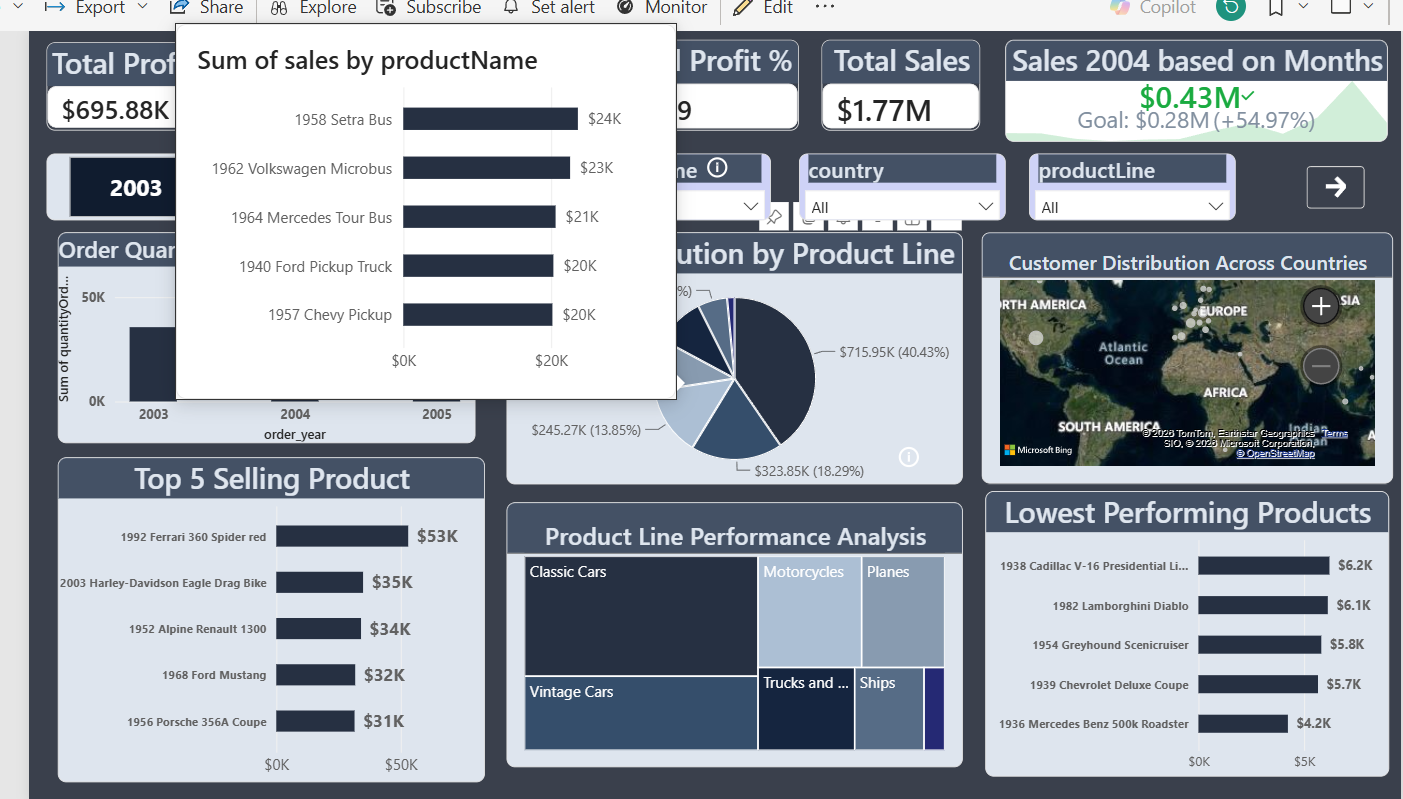

This screenshot's page, from the dashboard's own definition file:
{"tool":"powerbi","page":{"name":"Orders and Sales","canvas":[1280,720],"ordinal":0},"visuals":[{"type":"pieChart","title":"Sales Distribution by Product Line","fields":{"Category":["product database.productLine"],"Y":["Sum(order details.sales)"]},"box":[445.2,188.2,425.9,235.3],"z":0},{"type":"cardVisual","title":"Total Profit","fields":{"Data":["order details.total_profit"]},"box":[16.9,10.9,141.2,82],"z":1000},{"type":"cardVisual","title":"Top Selling Product","fields":{"Data":["order details.Most Ordered Product"]},"box":[167.7,8.4,360.7,84.5],"z":2000},{"type":"barChart","title":"Top 5 Selling Product","fields":{"Category":["products.productName"],"Y":["Sum(order details.sales)"]},"box":[26.5,398.1,398.1,302.8],"z":3000},{"type":"kpi","title":"Sales 2004 based on Months","fields":{"Goal":["order details.sales_2003"],"Indicator":["order details.sales_2004"],"TrendLine":["order.orderDate.Variation.Date Hierarchy.Month"]},"box":[910.9,8.4,357.1,95.3],"z":4000},{"type":"map","title":"Customer Distribution Across Countries","fields":{"Category":["customer database.country"],"Size":["CountNonNull(customer database.customerNumber)"]},"box":[887.9,188.2,383.6,234],"z":5000},{"type":"slicer","fields":{"Values":["order.shippedDate.Variation.Date Hierarchy.Year"]},"box":[16.9,114.6,417.4,62.7],"z":6000},{"type":"treemap","title":"Product Line Performance Analysis","fields":{"Group":["productlines.productLine"],"Values":["Sum(order details.quantityOrdered)"]},"box":[445.2,439.1,425.9,247.3],"z":7000},{"type":"columnChart","title":"Order Quantity Trend (2003–2005)","fields":{"Category":["order.order_year"],"Y":["Sum(order details.quantityOrdered)"]},"box":[26.5,188.2,389.7,196.6],"z":8000},{"type":"cardVisual","title":"Total Profit %","fields":{"Data":["classic_models_dataset (2).Profit_measure%"]},"box":[541.7,8.4,176.1,84.5],"z":9000},{"type":"cardVisual","title":"Total Sales","fields":{"Data":["Sum(order details.sales)"]},"box":[739.5,8.4,148.4,84.5],"z":10000},{"type":"barChart","title":"Lowest Performing Products","fields":{"Category":["products.productName"],"Y":["Sum(order details.sales)"]},"box":[891.6,429.5,376.4,266.6],"z":11000},{"type":"slicer","fields":{"Values":["employee database.Name"]},"box":[466.9,114.6,225.6,62.7],"z":12000},{"type":"slicer","fields":{"Values":["customer database.country"]},"box":[717.8,114.6,193,62.7],"z":13000},{"type":"slicer","fields":{"Values":["productlines.productLine"]},"box":[932.6,114.6,193,62.7],"z":14000},{"type":"actionButton","box":[616.5,108.6,50.7,37.4],"z":15000},{"type":"actionButton","box":[1192,125.5,54.3,39.8],"z":16000},{"type":"actionButton","box":[770.9,377.6,100.1,39.8],"z":16001}]}

Visuals, with their boxes on the page's 1280x720 design canvas (x1, y1, x2, y2). These are canvas units, not pixel positions in the 1403x799 screenshot, which may show the page scaled, cropped or inside an application window:
"Sales Distribution by Product Line" pieChart: x1=445 y1=188 x2=871 y2=424
"Total Profit" cardVisual: x1=17 y1=11 x2=158 y2=93
"Top Selling Product" cardVisual: x1=168 y1=8 x2=528 y2=93
"Top 5 Selling Product" barChart: x1=26 y1=398 x2=425 y2=701
"Sales 2004 based on Months" kpi: x1=911 y1=8 x2=1268 y2=104
"Customer Distribution Across Countries" map: x1=888 y1=188 x2=1272 y2=422
slicer - order.shippedDate.Variation.Date Hierarchy.Year: x1=17 y1=115 x2=434 y2=177
"Product Line Performance Analysis" treemap: x1=445 y1=439 x2=871 y2=686
"Order Quantity Trend (2003–2005)" columnChart: x1=26 y1=188 x2=416 y2=385
"Total Profit %" cardVisual: x1=542 y1=8 x2=718 y2=93
"Total Sales" cardVisual: x1=740 y1=8 x2=888 y2=93
"Lowest Performing Products" barChart: x1=892 y1=430 x2=1268 y2=696
slicer - employee database.Name: x1=467 y1=115 x2=692 y2=177
slicer - customer database.country: x1=718 y1=115 x2=911 y2=177
slicer - productlines.productLine: x1=933 y1=115 x2=1126 y2=177
actionButton: x1=616 y1=109 x2=667 y2=146
actionButton: x1=1192 y1=126 x2=1246 y2=165
actionButton: x1=771 y1=378 x2=871 y2=417
